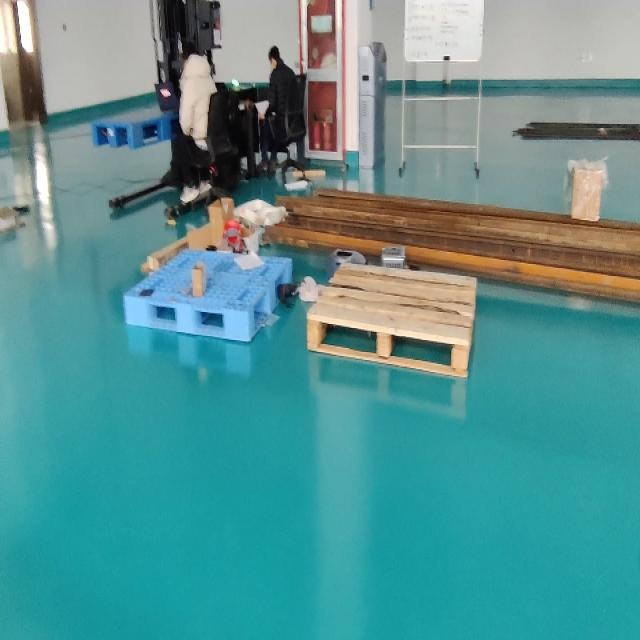euro: (307, 264, 476, 376)
